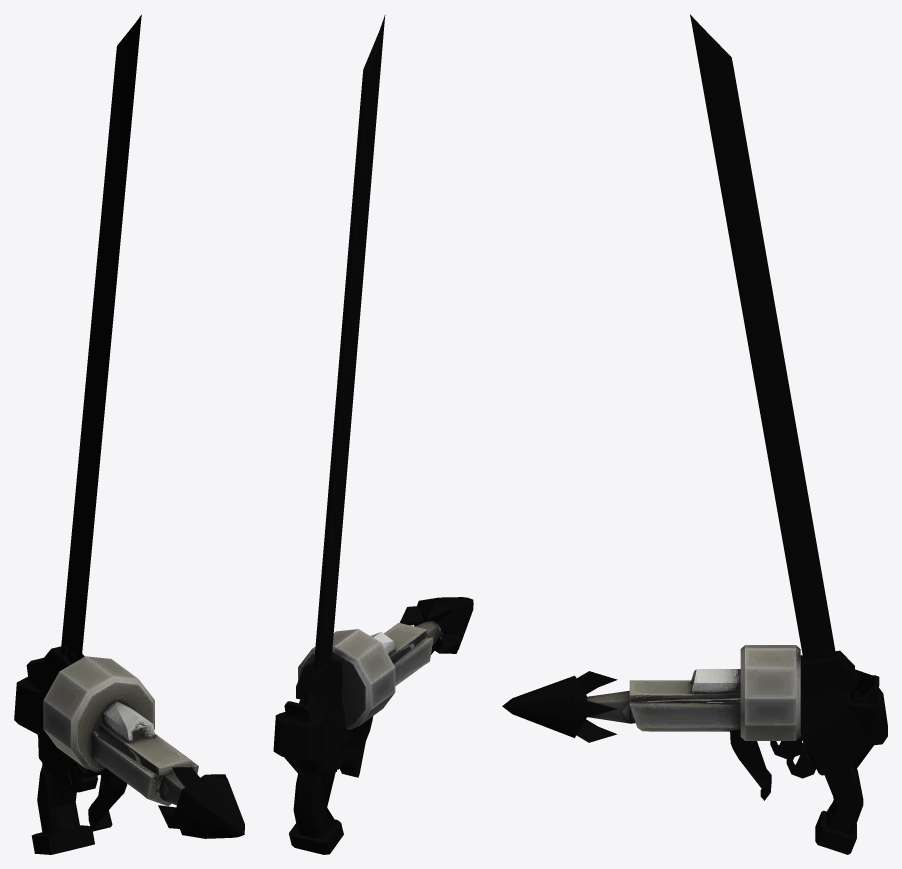
The model's file is item_hookshot_sword.glb.
3 renders of one model, left to right at view 1: azimuth 30°, elevation 25°; view 2: azimuth 150°, elevation 25°; view 3: azimuth 270°, elevation 25°, orthographic. The views are drawn at different scales.
Parts seen in each view (by area): view 1: HookBlade, HookBlade_Hook; view 2: HookBlade, HookBlade_Hook; view 3: HookBlade, HookBlade_Hook.
Boxes of the visible parts, box(x1,y1,x2,y2) form: HookBlade: box(14, 14, 198, 854); HookBlade_Hook: box(158, 767, 244, 838); HookBlade: box(273, 15, 433, 854); HookBlade_Hook: box(400, 597, 473, 654); HookBlade: box(629, 14, 887, 854); HookBlade_Hook: box(502, 671, 635, 742).
Bounding box in the file's own units: 0.1154 × 1.17 × 0.4937.
2 materials, 2 textured.
